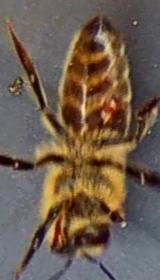varroa_mite: (86, 86, 134, 130)
